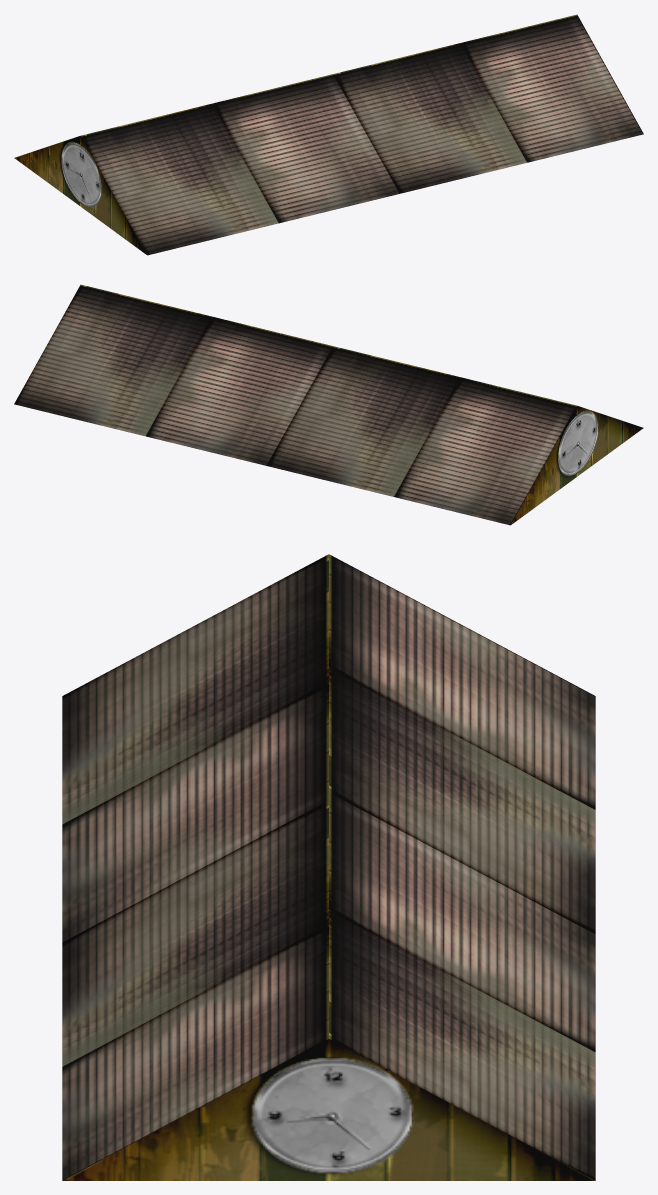
The model's file is trainstationroof.glb.
3 views of the same model, one above another, from view 1: azimuth 30°, elevation 25°; view 2: azimuth 150°, elevation 25°; view 3: azimuth 270°, elevation 25° (orthographic). The views are drawn at different scales.
Visible parts, largest first — view 1: trainstationroof; view 2: trainstationroof; view 3: trainstationroof.
Boxes of the visible parts, x1,y1,x2,y2 form: trainstationroof: [14, 14, 643, 255]; trainstationroof: [14, 284, 643, 525]; trainstationroof: [62, 554, 595, 1180].
Size of the model in its own units: 2299 by 314 by 1069.
1 material, 1 textured.
